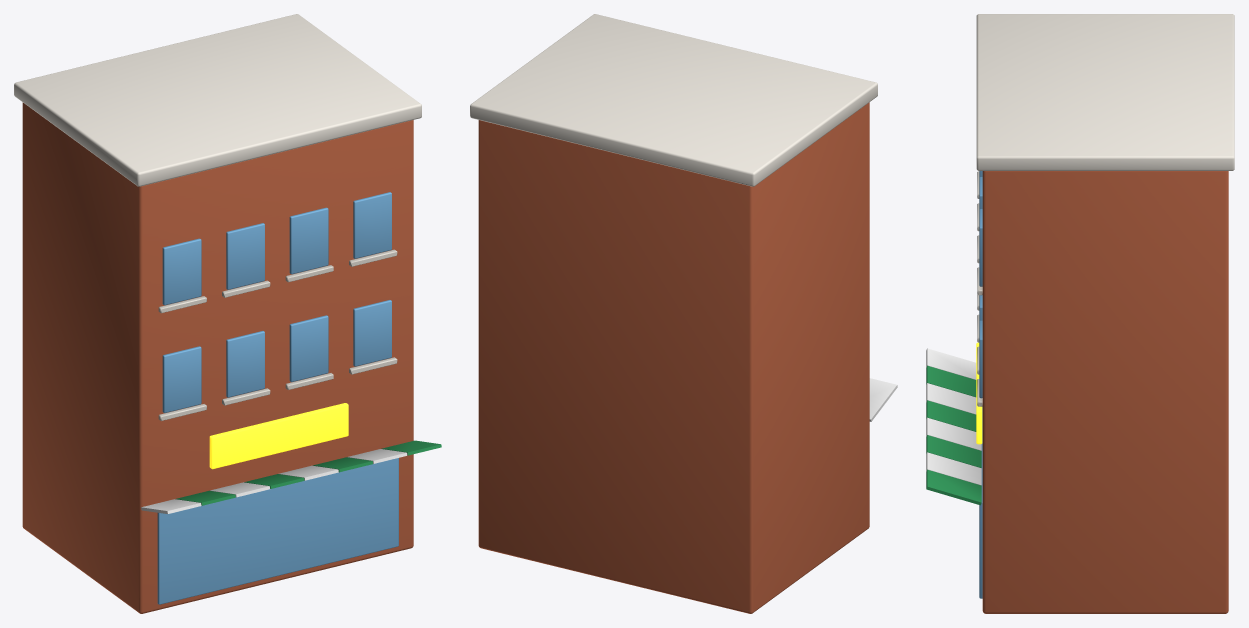
File: ct_shop.glb
The picture shows the model from 3 angles, left to right: view 1: azimuth 30°, elevation 25°; view 2: azimuth 150°, elevation 25°; view 3: azimuth 270°, elevation 25°; orthographic projection. The views are drawn at different scales.
Parts seen in each view (by area): view 1: ct_shop; view 2: ct_shop; view 3: ct_shop.
Part boxes in pixels (x1,y1,x2,y2): ct_shop: [14, 14, 441, 613]; ct_shop: [470, 14, 897, 613]; ct_shop: [926, 14, 1234, 613].
Size of the model in its own units: 8.3 by 12.4 by 7.53.
